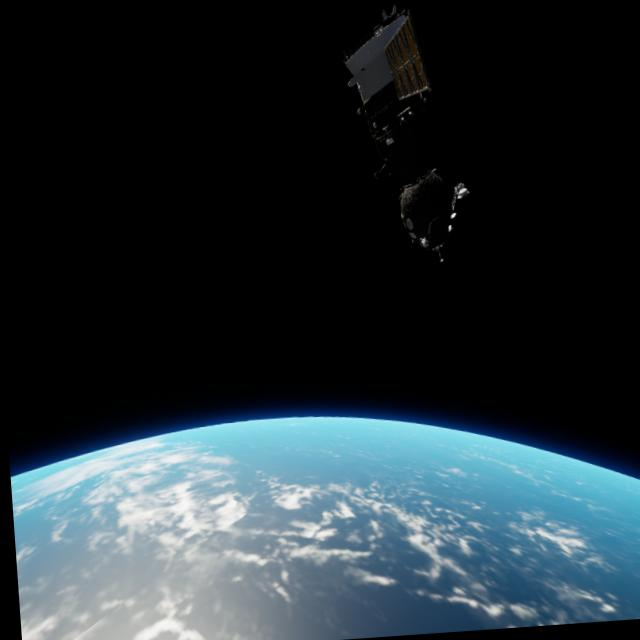Satellites revolving around earth: (8, 389, 640, 640)
